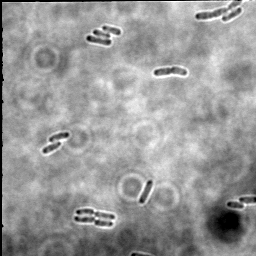Dividing: (194, 1, 242, 21), (74, 214, 114, 229), (75, 206, 117, 220), (153, 65, 188, 78)
Rod: (137, 179, 155, 205), (84, 33, 113, 47), (221, 6, 243, 24), (41, 140, 62, 156), (47, 131, 72, 143), (101, 23, 122, 36), (91, 28, 112, 40), (225, 200, 245, 210)
